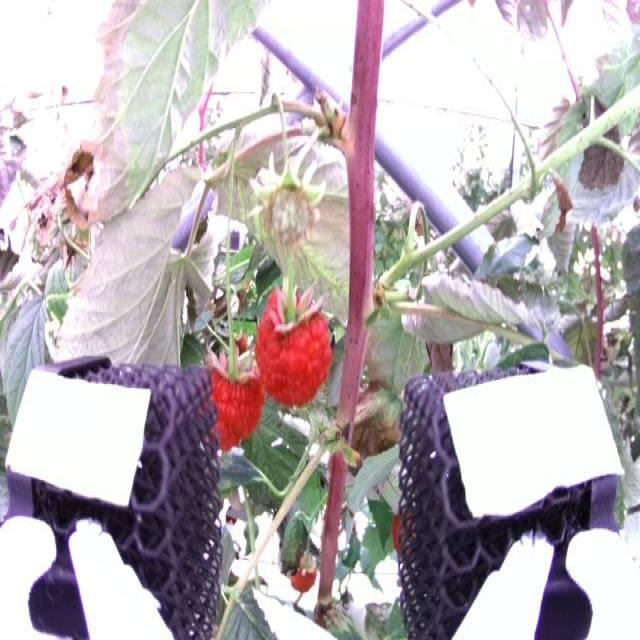Riped berries: (256, 284, 345, 404), (202, 340, 264, 441)
